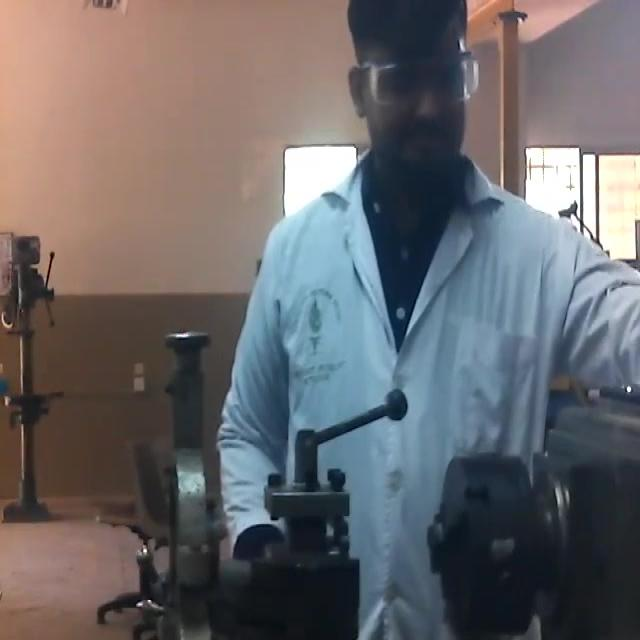googles: (368, 52, 478, 115)
labcoat: (217, 144, 640, 640)
